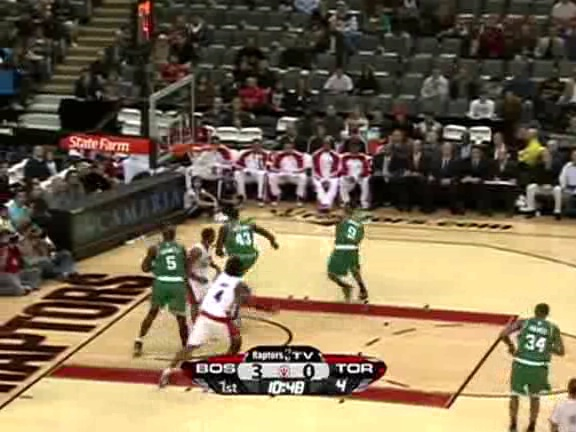person: (331, 205, 365, 286), (330, 205, 364, 286), (332, 205, 366, 286), (331, 204, 365, 285), (331, 206, 365, 287)
target_negative: (325, 152, 520, 354), (149, 289, 368, 431), (417, 237, 513, 428), (74, 291, 151, 404), (509, 171, 561, 327), (524, 241, 561, 258)
